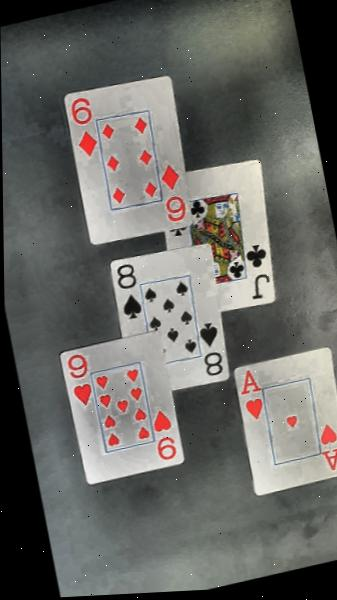6D: (60, 87, 102, 163), (150, 158, 189, 226)
8P: (100, 255, 146, 326), (189, 315, 232, 389)
9C: (143, 397, 189, 467), (54, 344, 97, 414)
AC: (229, 360, 271, 429), (309, 416, 337, 483)
JT: (239, 241, 277, 306)
